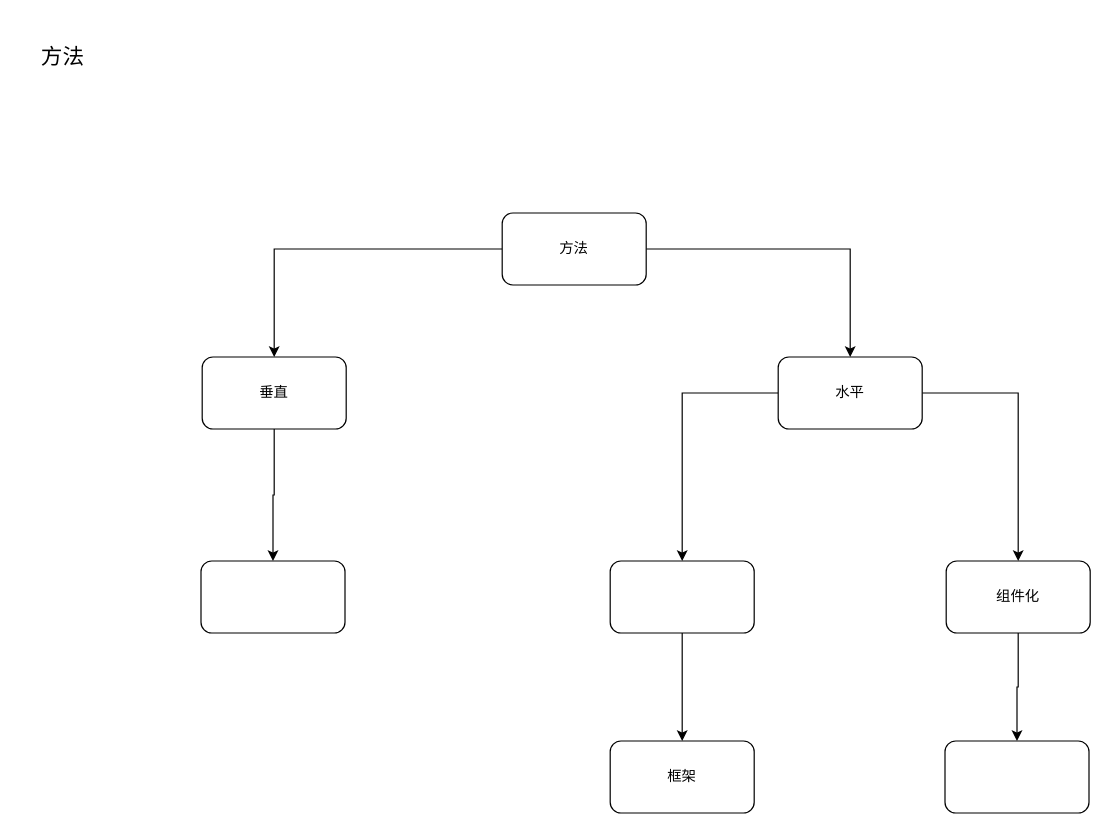
The diagram is 1111 pixels wide and 834 high, and some of its shapes have lost their labels. The centre of each missing label's shape, as x and y in pixels:
"分层次" belongs at pixel 272 596.
"模块化" belongs at pixel 681 596.
"组件和控件" belongs at pixel 1016 776.
